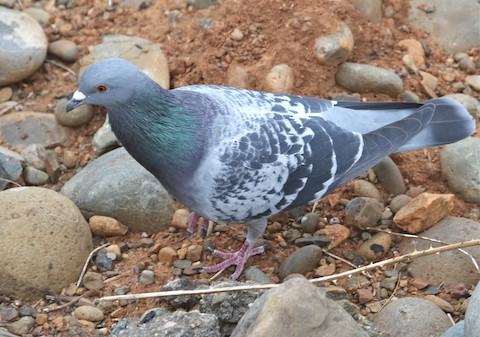pigeon: (63, 50, 478, 284)
